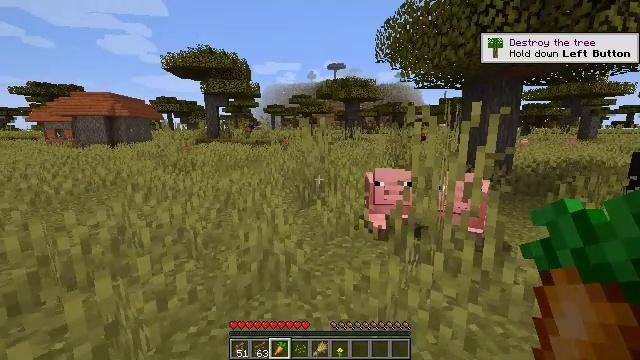pig: (437, 171, 490, 248), (363, 169, 416, 234)
